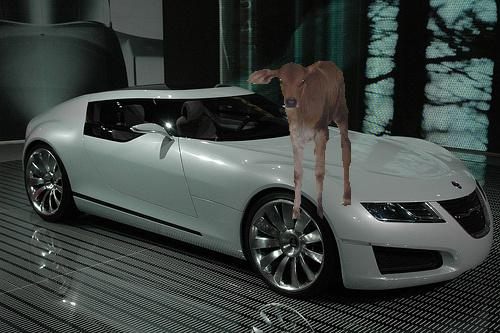tampered: (248, 62, 351, 219)
